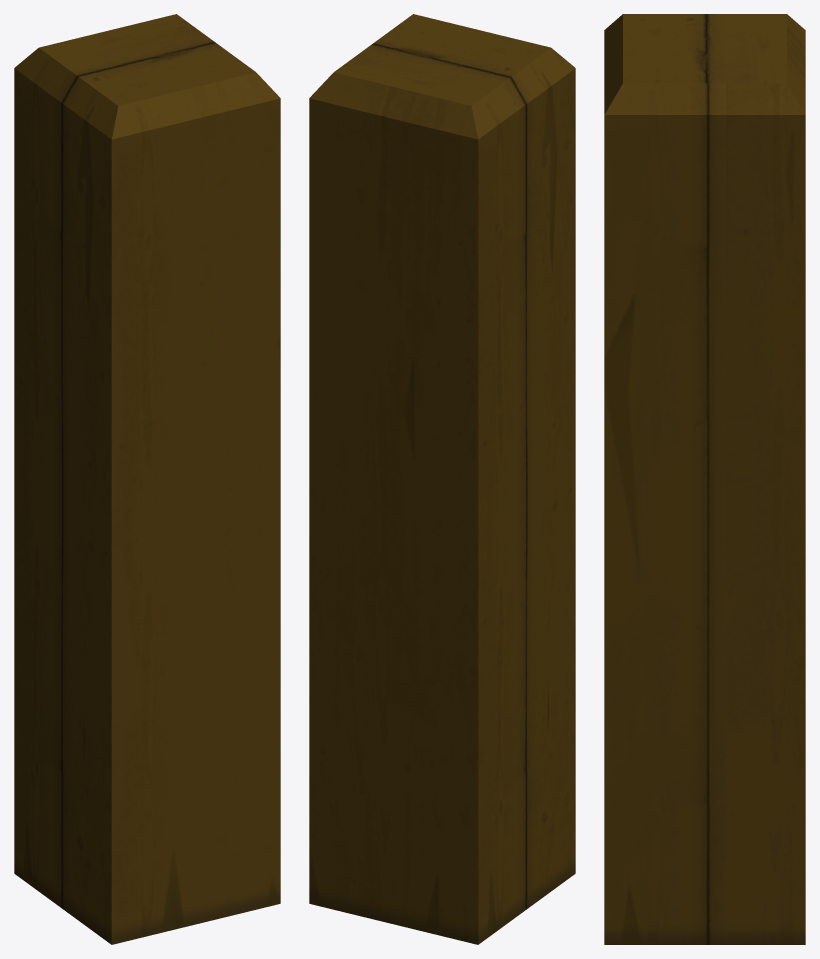
File: mod_wall_end.fbx
3 views of the same model, side by side, from view 1: azimuth 30°, elevation 25°; view 2: azimuth 150°, elevation 25°; view 3: azimuth 270°, elevation 25° (orthographic). The views are drawn at different scales.
Parts seen in each view (by area): view 1: pCube6; view 2: pCube6; view 3: pCube6.
Part boxes in pixels (left/top/right/bottom): pCube6: left=14, top=14, right=280, bottom=944; pCube6: left=309, top=14, right=575, bottom=944; pCube6: left=604, top=14, right=805, bottom=944.
Size of the model in its own units: 130 by 609 by 130.
1 material, 1 textured.
